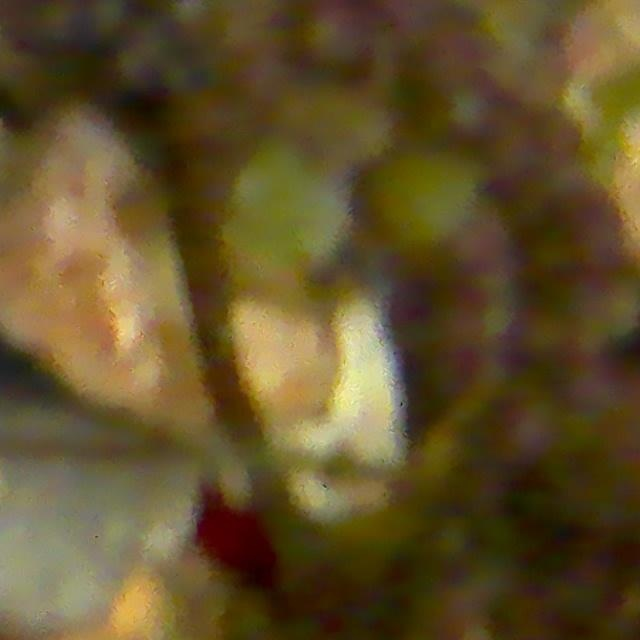SeaGrape: (382, 145, 489, 255), (328, 98, 397, 167), (301, 1, 369, 71), (585, 276, 640, 345), (518, 308, 573, 362), (81, 0, 132, 42)
